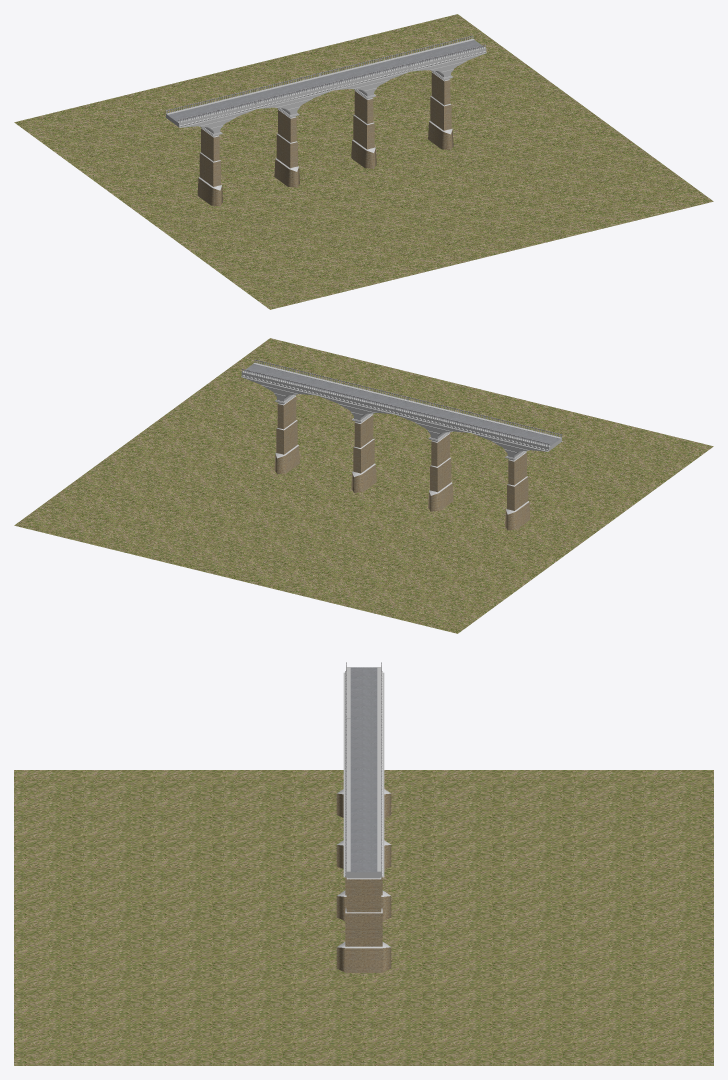
File: bridge_low_poly.fbx
The picture shows the model from 3 angles, top to bottom: view 1: azimuth 30°, elevation 25°; view 2: azimuth 150°, elevation 25°; view 3: azimuth 270°, elevation 25°; orthographic projection. The views are drawn at different scales.
Parts seen in each view (by area): view 1: pPlane1, polySurface176, polySurface174, polySurface172, polySurface175; view 2: pPlane1, polySurface176, polySurface174, polySurface172, polySurface175; view 3: pPlane1, polySurface174, polySurface172, polySurface175, polySurface176.
Boxes of the visible parts, x1=… form: pPlane1: x1=14, y1=14, x2=713, y2=309; polySurface176: x1=165, y1=91, x2=256, y2=206; polySurface174: x1=396, y1=35, x2=486, y2=150; polySurface172: x1=319, y1=54, x2=409, y2=168; polySurface175: x1=243, y1=73, x2=332, y2=187; pPlane1: x1=14, y1=338, x2=713, y2=633; polySurface176: x1=471, y1=415, x2=562, y2=530; polySurface174: x1=241, y1=359, x2=331, y2=474; polySurface172: x1=318, y1=378, x2=408, y2=492; polySurface175: x1=395, y1=397, x2=484, y2=511; pPlane1: x1=14, y1=770, x2=713, y2=1065; polySurface174: x1=336, y1=816, x2=391, y2=972; polySurface172: x1=336, y1=765, x2=391, y2=921; polySurface175: x1=336, y1=713, x2=391, y2=868; polySurface176: x1=336, y1=662, x2=391, y2=817.
Size of the model in its own units: 213 by 42.93 by 213.
